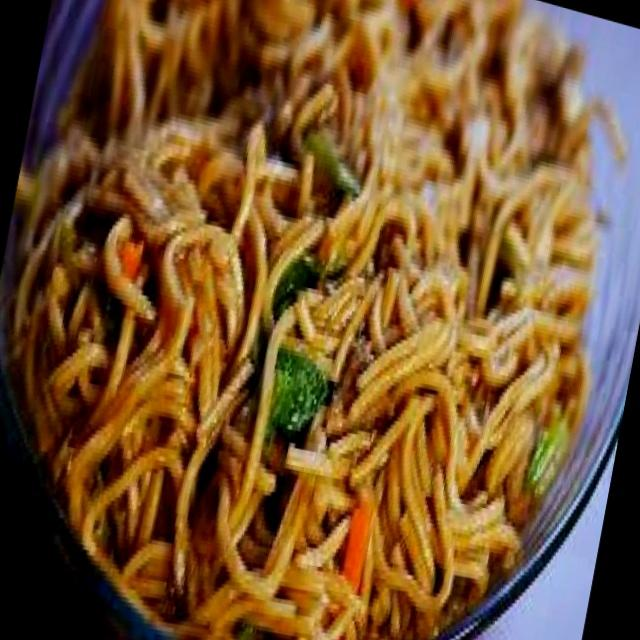pancit bihon: (0, 0, 593, 636)
